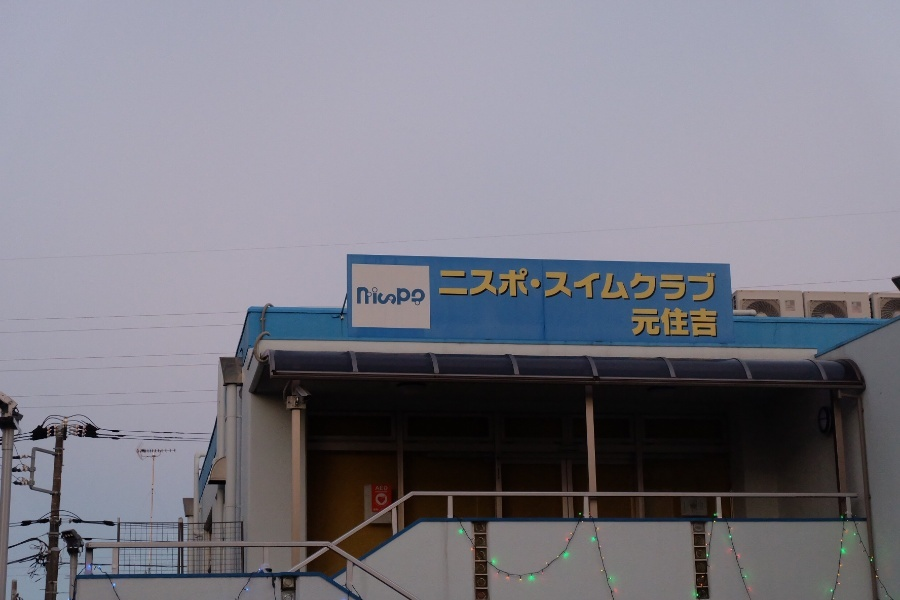text: (705, 270, 721, 303), (641, 308, 656, 341), (657, 308, 672, 341), (673, 308, 688, 341), (689, 308, 704, 341), (449, 270, 464, 303), (465, 270, 480, 303), (481, 270, 496, 303), (497, 270, 512, 303), (513, 270, 528, 303), (529, 270, 544, 303), (545, 270, 560, 303), (561, 270, 576, 303), (577, 270, 592, 303), (593, 270, 608, 303), (609, 270, 624, 303), (625, 270, 640, 303), (641, 270, 656, 303), (657, 270, 672, 303), (673, 270, 688, 303), (689, 270, 704, 303), (705, 308, 719, 341), (628, 308, 640, 341), (438, 270, 448, 303), (377, 485, 384, 492), (385, 485, 389, 492)
